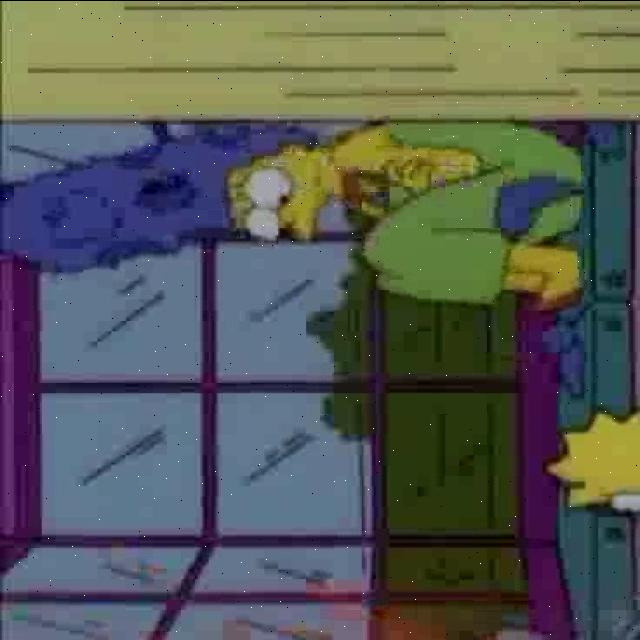Marge Simpson: (0, 126, 348, 270)
